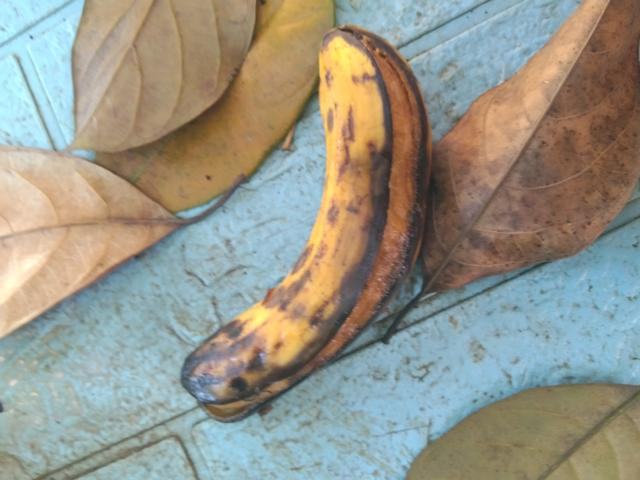rotten: (165, 20, 452, 441)
